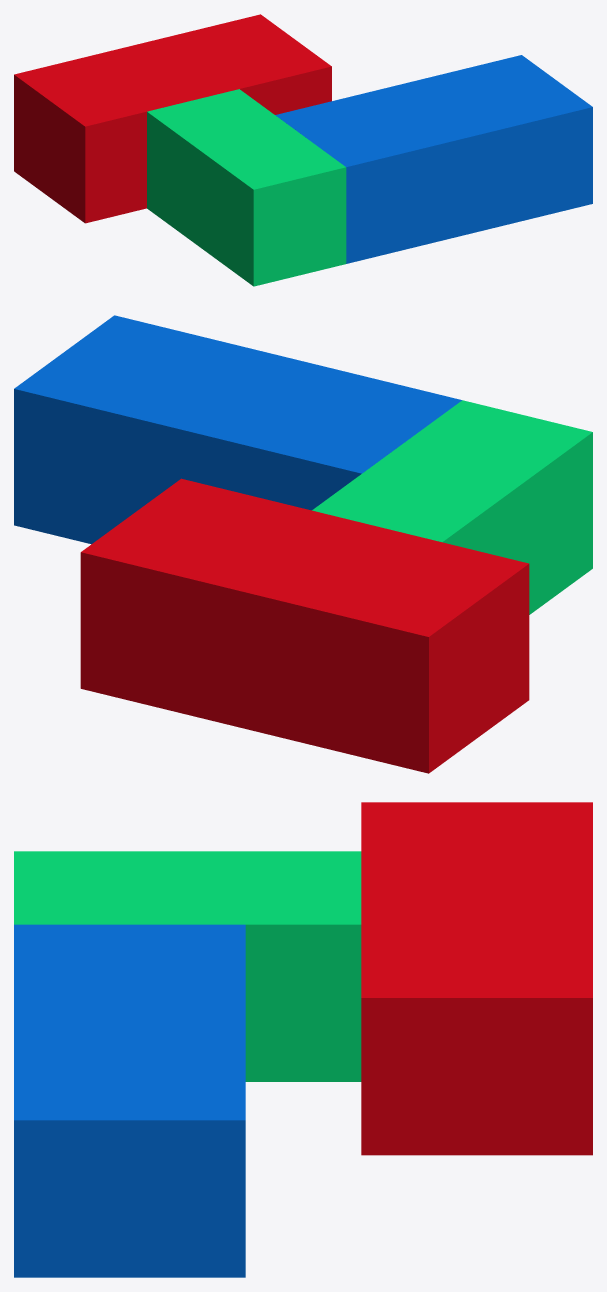
The model's file is MOD_ART_ThreeRooms.fbx_AcousticMesh.fbx.
The picture shows the model from 3 angles, top to bottom: view 1: azimuth 30°, elevation 25°; view 2: azimuth 150°, elevation 25°; view 3: azimuth 270°, elevation 25°; orthographic projection. The views are drawn at different scales.
Parts seen in each view (by area): view 1: AcousticMesh; view 2: AcousticMesh; view 3: AcousticMesh.
Boxes of the visible parts, x1,y1,x2,y2 form: AcousticMesh: [14, 14, 592, 286]; AcousticMesh: [14, 315, 592, 773]; AcousticMesh: [14, 802, 592, 1277].
Bounding box in the file's own units: 1300 × 300 × 1000.
